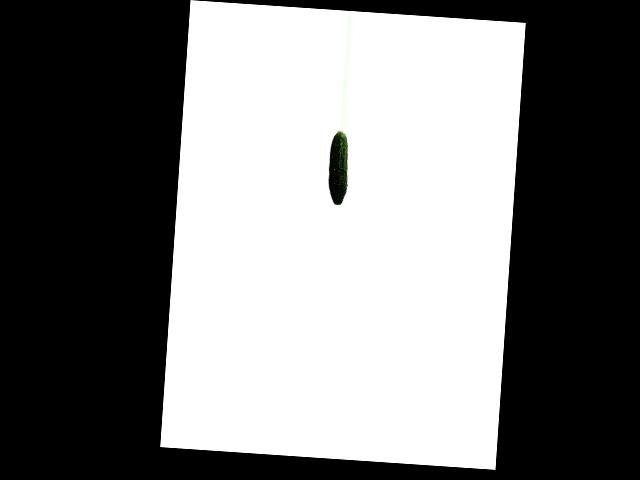cucumber: (326, 130, 350, 205)
